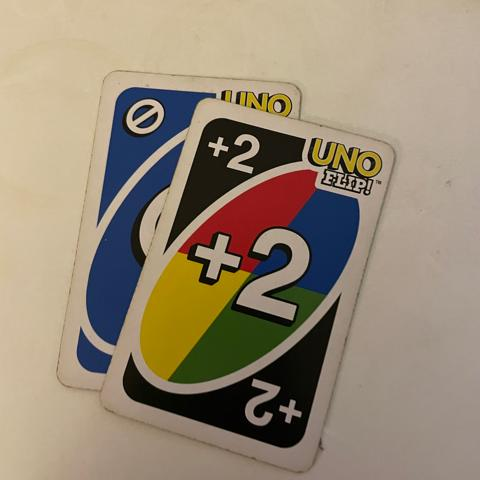lblueskip-20: (110, 82, 176, 152)
lcolor2-50: (197, 117, 263, 180)
